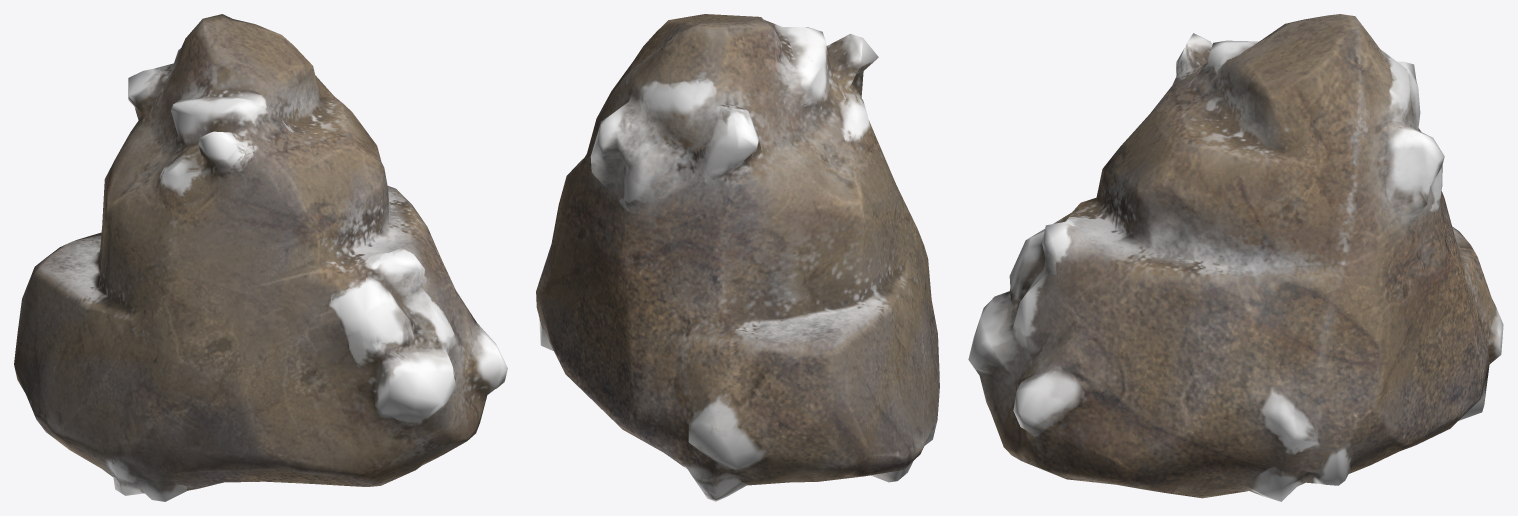
Rendered from SM_MetalNode_3b.fbx.
The picture shows the model from 3 angles, left to right: view 1: azimuth 30°, elevation 25°; view 2: azimuth 150°, elevation 25°; view 3: azimuth 270°, elevation 25°; orthographic projection. The views are drawn at different scales.
Parts seen in each view (by area): view 1: SM_MetalNode_3b_LOD0; view 2: SM_MetalNode_3b_LOD0; view 3: SM_MetalNode_3b_LOD0.
Boxes of the visible parts, x1=… form: SM_MetalNode_3b_LOD0: x1=14, y1=14, x2=507, y2=501; SM_MetalNode_3b_LOD0: x1=536, y1=14, x2=939, y2=501; SM_MetalNode_3b_LOD0: x1=968, y1=14, x2=1503, y2=501.
Size of what is drawn, in the model's own units: 0.9586 by 1.07 by 1.11.
